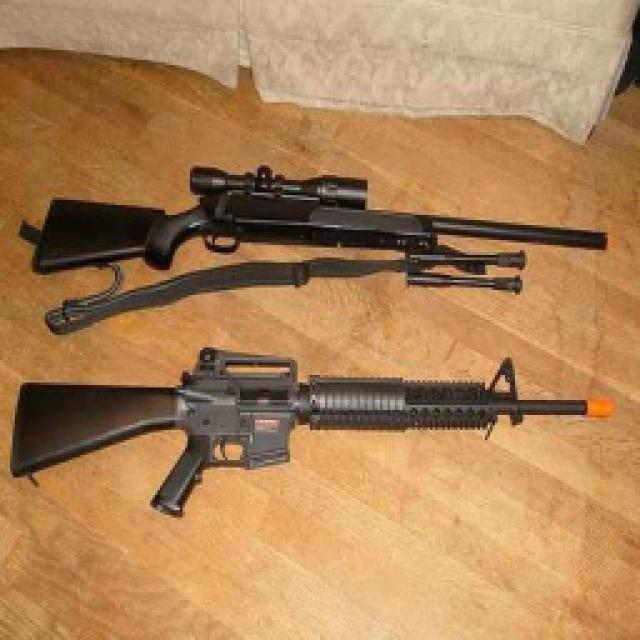long weapon: (44, 341, 594, 511), (12, 163, 618, 310)
